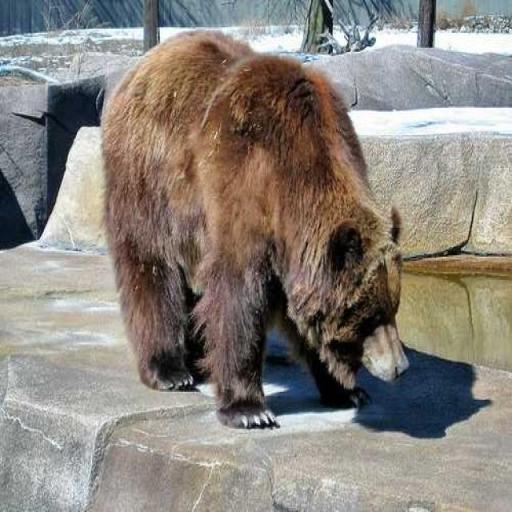Bear: (99, 28, 410, 430)
